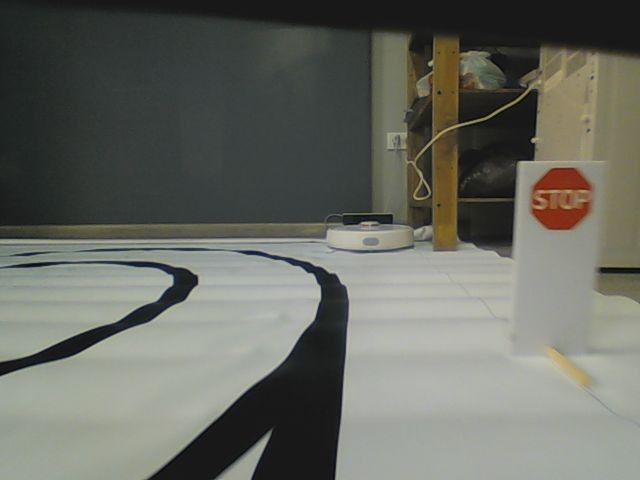Stop: (530, 166, 593, 232)
